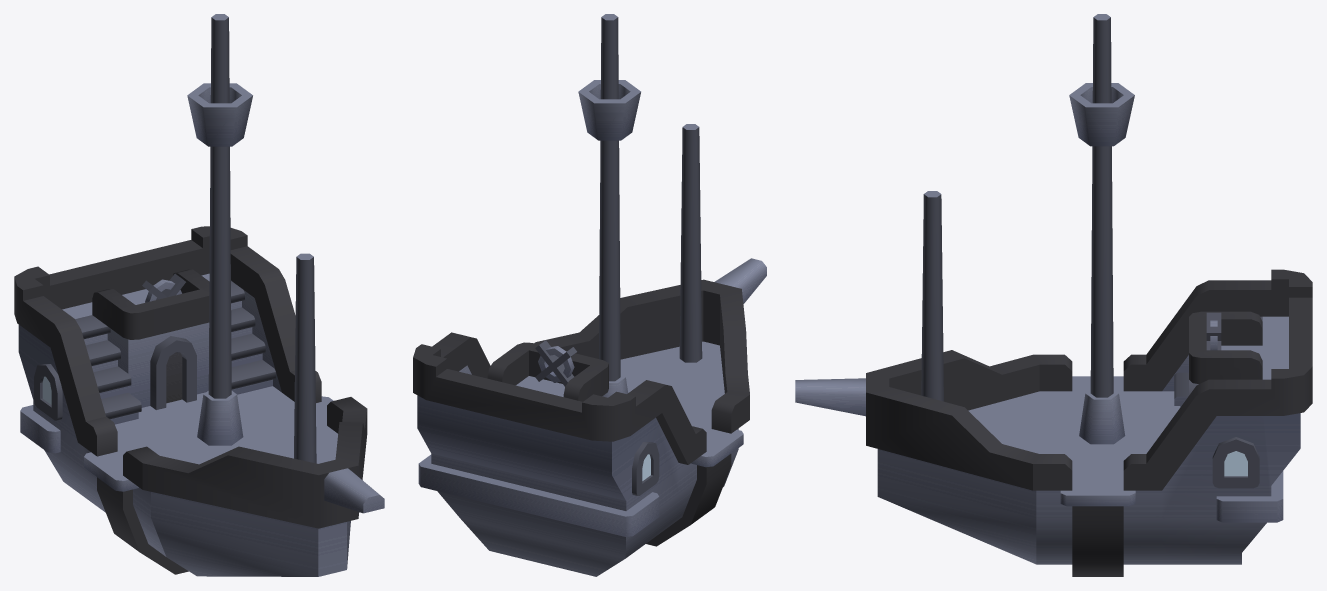
Rendered from ship_small_hull_black.glb.
3 views of the same model, side by side, from view 1: azimuth 30°, elevation 25°; view 2: azimuth 150°, elevation 25°; view 3: azimuth 270°, elevation 25° (orthographic). The views are drawn at different scales.
Parts seen in each view (by area): view 1: ship_small_black; view 2: ship_small_black; view 3: ship_small_black.
Part boxes in pixels (x1,y1,x2,y2): ship_small_black: (14, 14, 384, 576); ship_small_black: (413, 14, 766, 576); ship_small_black: (795, 14, 1312, 576).
Bounding box in the file's own units: 4.8 × 9.96 × 8.8.
1 material, 1 textured.
